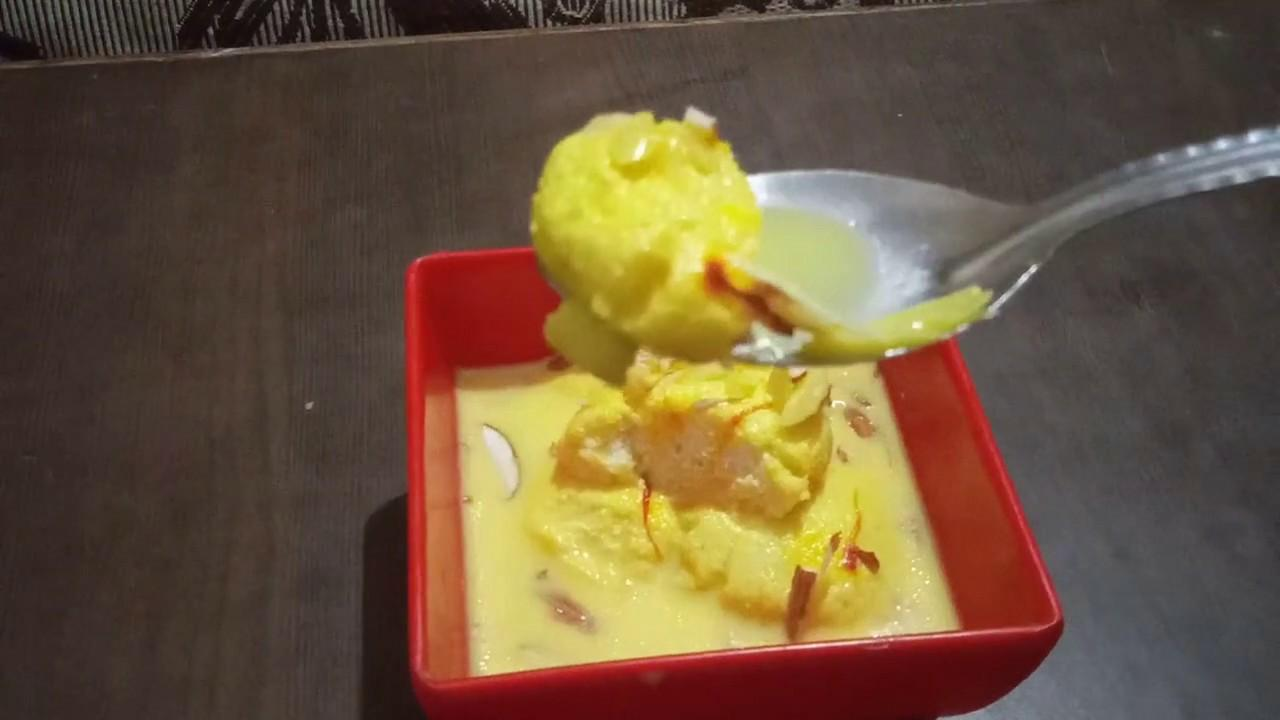RasMalai: (443, 97, 968, 691)
